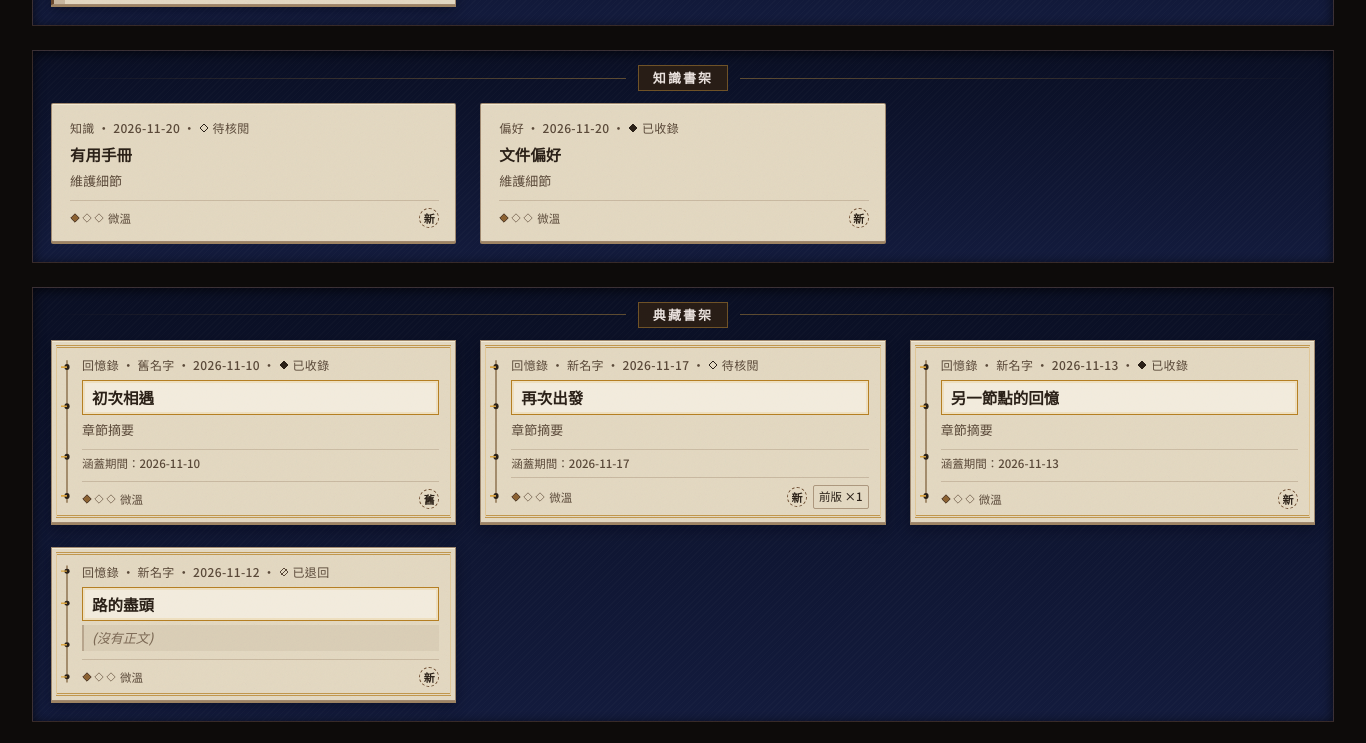
it: M7 回憶錄閱讀桌與知識書架 › 閱讀桌 B 顯示同 ID 的章節，並能逐章切換
The image size is (1366, 743).
(page scrolled)
What coordinates should you click on to do the following:
click the button "再次出發"
I would click on:
 (552, 397)
Its box is [521,386,583,409].
(page scrolled)
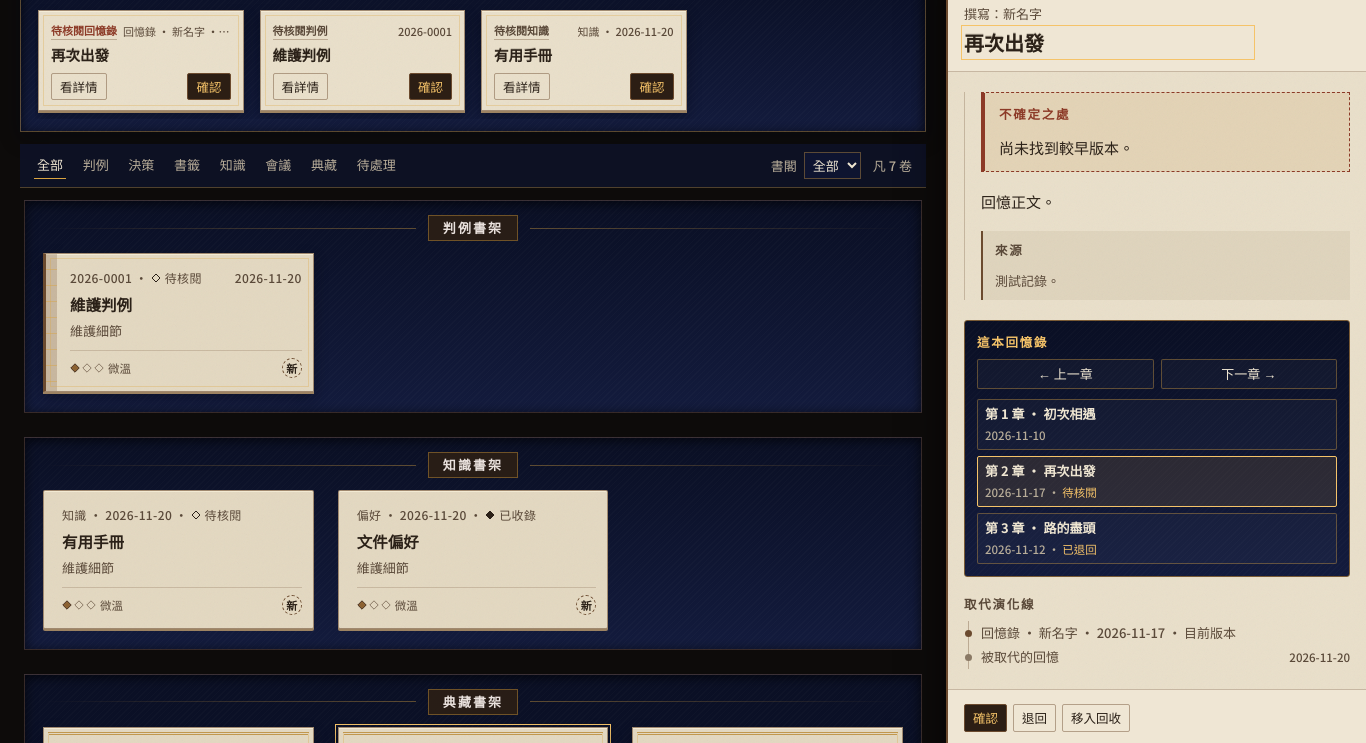
Check: the button "第 2 章 · 再次出發 2026-11-17 · 待核閱" is shown, box [977,456,1337,507]
Check: the button "第 3 章 · 路的盡頭 2026-11-12 · 已退回" is shown, box [977,513,1337,564]
Check: the element named "閱讀桌" shows "被取代的回憶", box [981,648,1350,666]
What coordinates should you click on to do the following:
click the button "← 上一章"
I would click on:
 (1065, 374)
Its box is [977,359,1154,389].
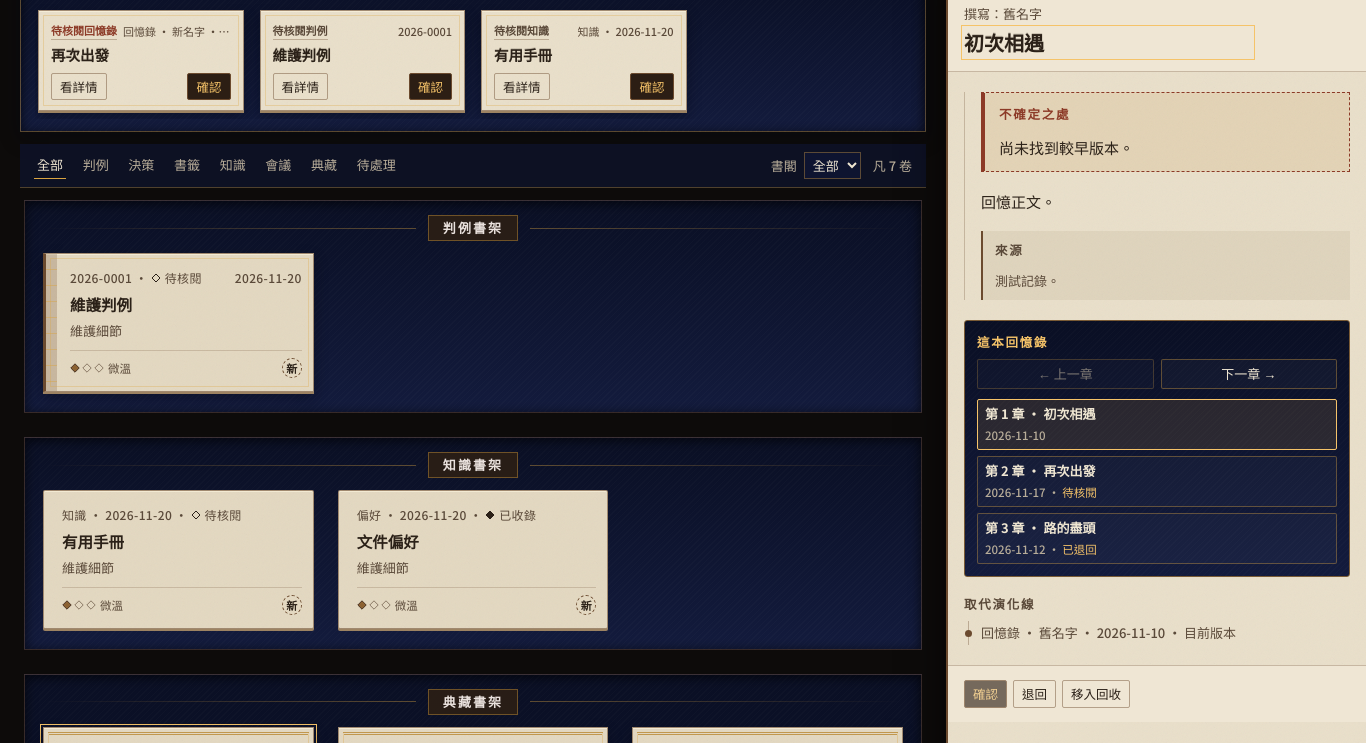
Check: the button "← 上一章" is disabled, box [977,359,1154,389]
What coordinates should you click on to do the following:
click the button "下一章 →"
I would click on:
 (1249, 374)
Its box is [1160,359,1337,389].
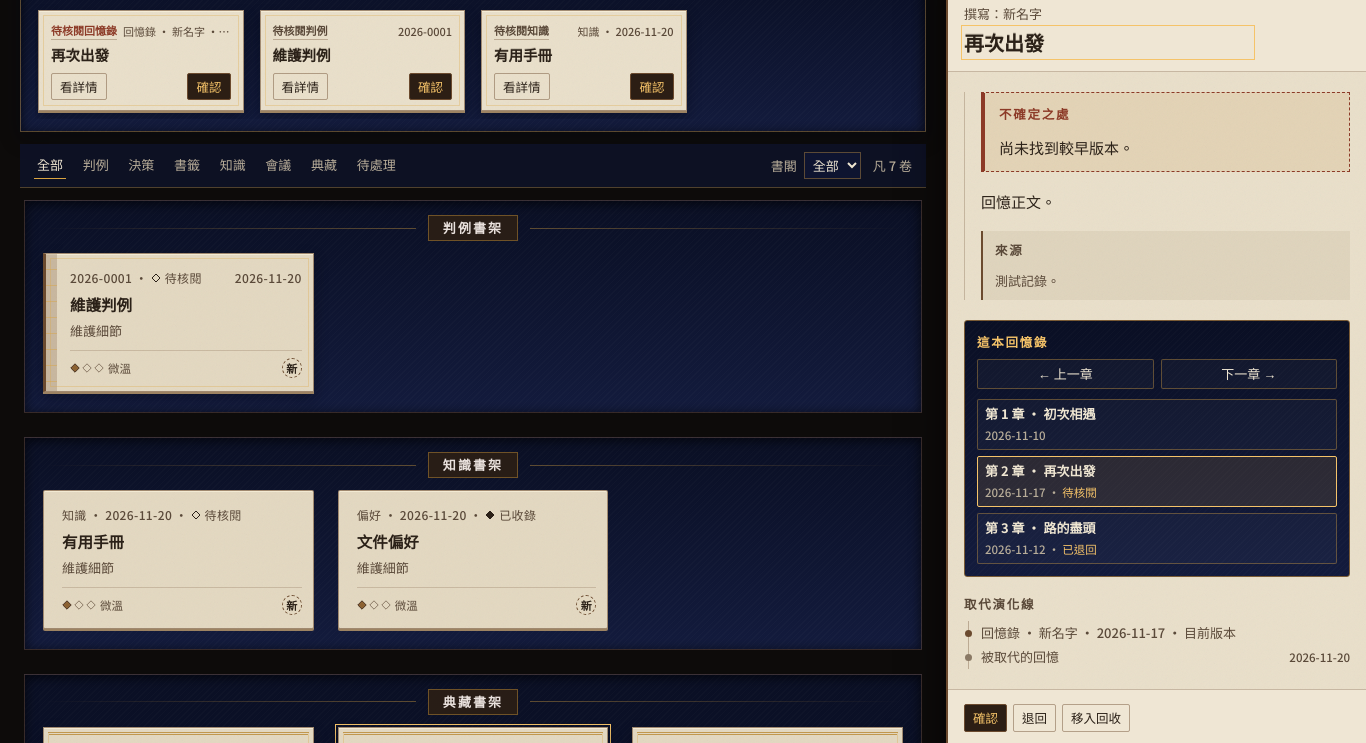
Check: the button "再次出發" is shown, box [51,44,230,65]
What coordinates should you click on to do the following:
click the button "下一章 →"
I would click on:
 (1249, 374)
Its box is [1160,359,1337,389].
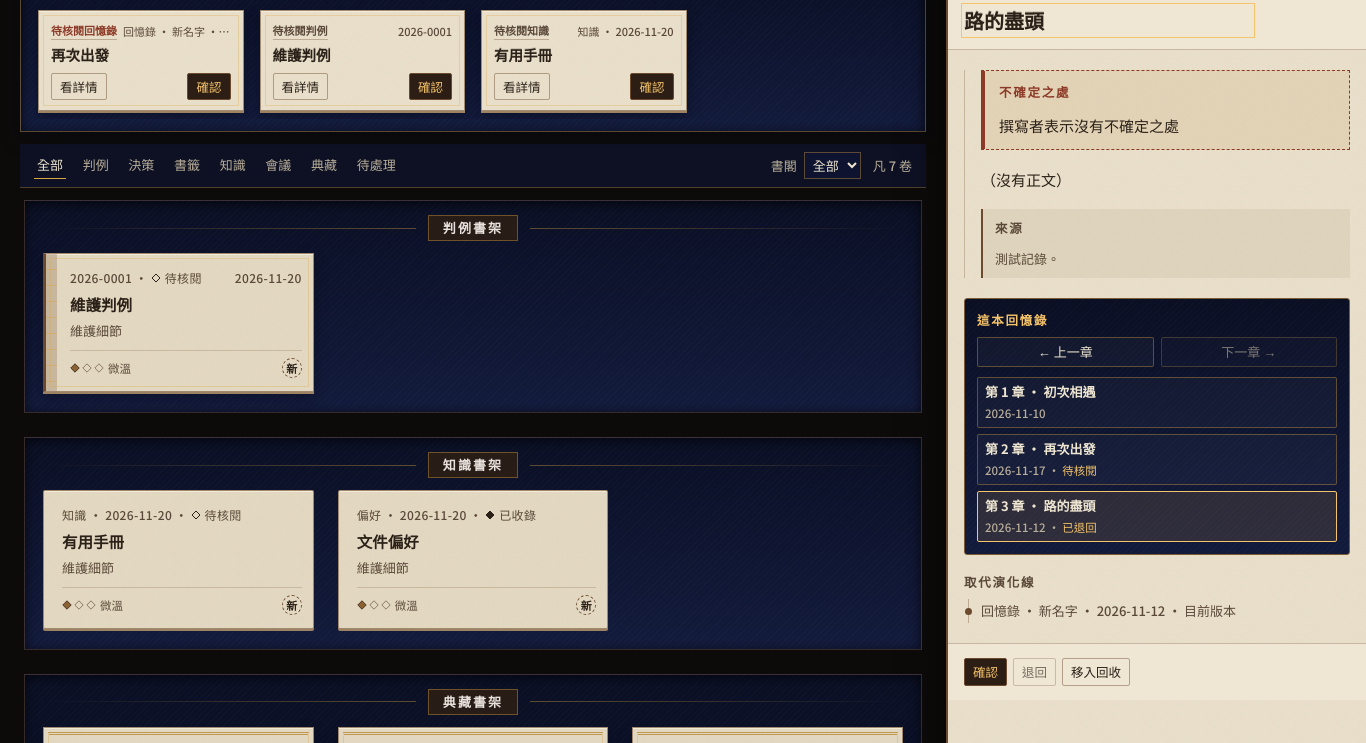
Check: the button "下一章 →" is disabled, box [1160,337,1337,367]
Check: the element showing "不確定之處 撰寫者表示沒有不確定之處" is shown, box [981,70,1350,150]
